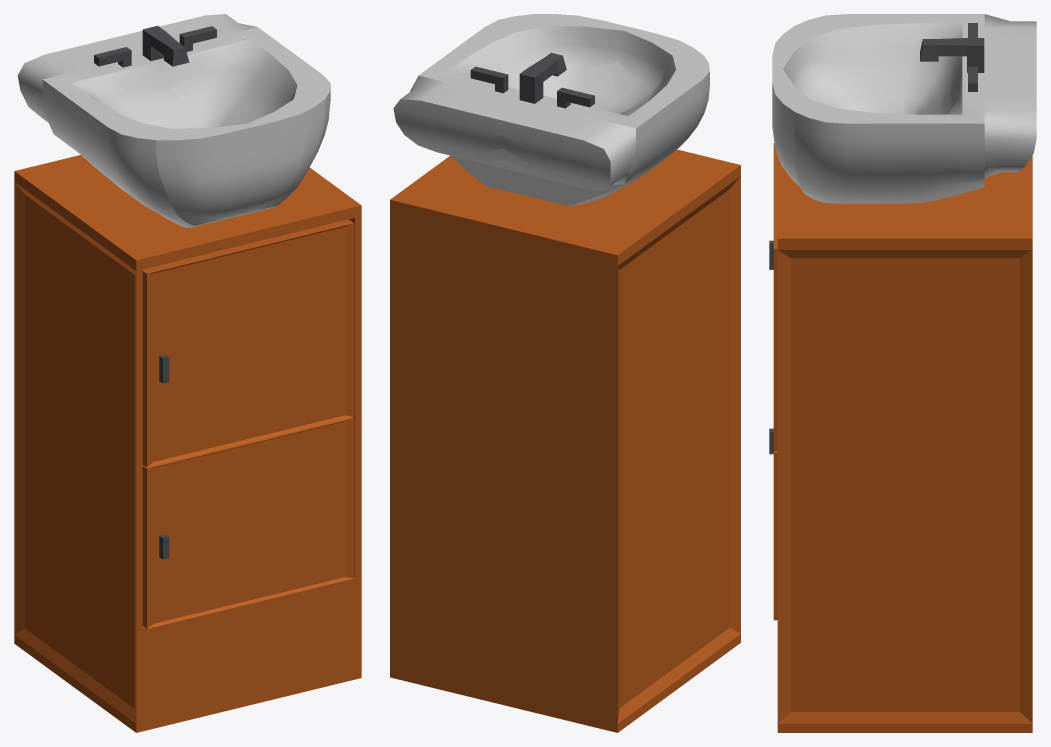
The model's file is Lavamanos.fbx.
The picture shows the model from 3 angles, left to right: view 1: azimuth 30°, elevation 25°; view 2: azimuth 150°, elevation 25°; view 3: azimuth 270°, elevation 25°; orthographic projection. The views are drawn at different scales.
Parts seen in each view (by area): view 1: ArmarioLavamanos, Lavamanos, PuertaArmario001, PuertaArmario004, Grifo, Llaves; view 2: ArmarioLavamanos, Lavamanos, Grifo, Llaves; view 3: ArmarioLavamanos, Lavamanos, PuertaArmario001, Grifo, PuertaArmario004.
Part boxes in pixels (<box>): ArmarioLavamanos: <box>14,155,361,732</box>; Lavamanos: <box>17,14,330,227</box>; PuertaArmario001: <box>142,219,354,467</box>; PuertaArmario004: <box>142,417,354,628</box>; Grifo: <box>142,25,189,66</box>; Llaves: <box>94,26,216,67</box>; ArmarioLavamanos: <box>390,149,740,732</box>; Lavamanos: <box>393,14,709,206</box>; Grifo: <box>519,52,566,103</box>; Llaves: <box>470,66,594,108</box>; ArmarioLavamanos: <box>777,155,1032,732</box>; Lavamanos: <box>772,14,1036,203</box>; PuertaArmario001: <box>769,143,777,451</box>; Grifo: <box>920,38,984,72</box>; PuertaArmario004: <box>769,428,777,620</box>.
Size of the model in its own units: 0.5276 by 1.36 by 0.5182.
